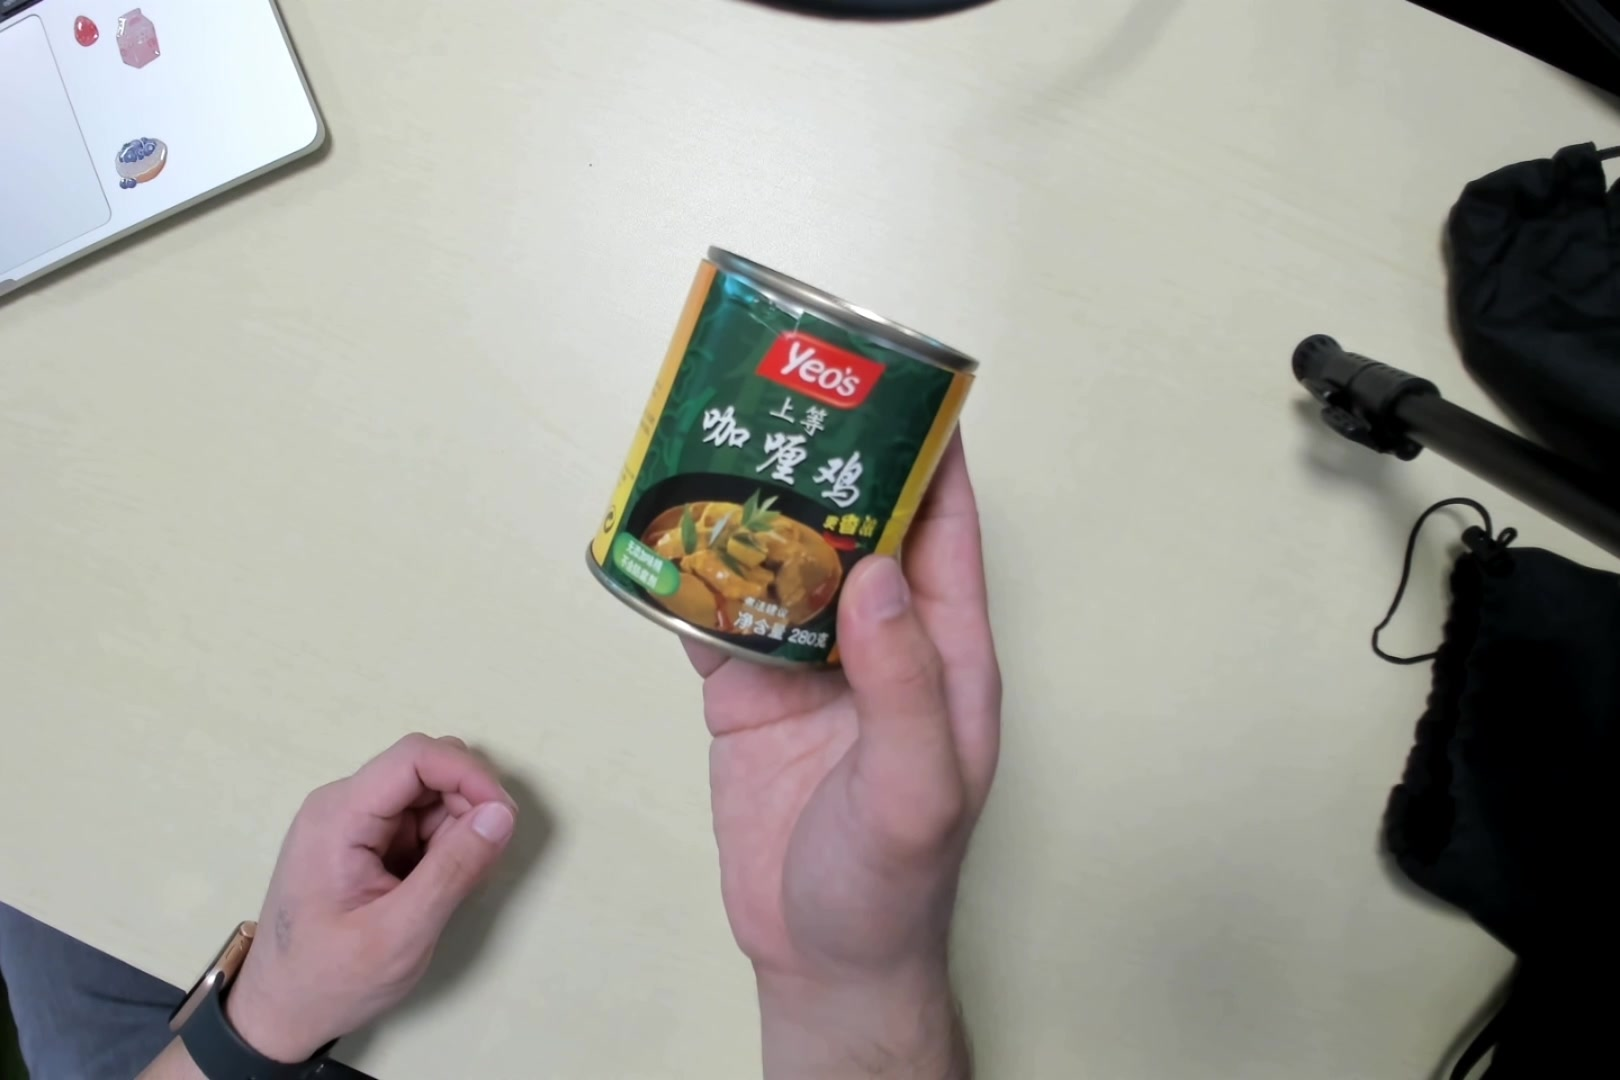CannedChicken_100-199g_Halal_NonHealthy: (583, 246, 965, 670)
